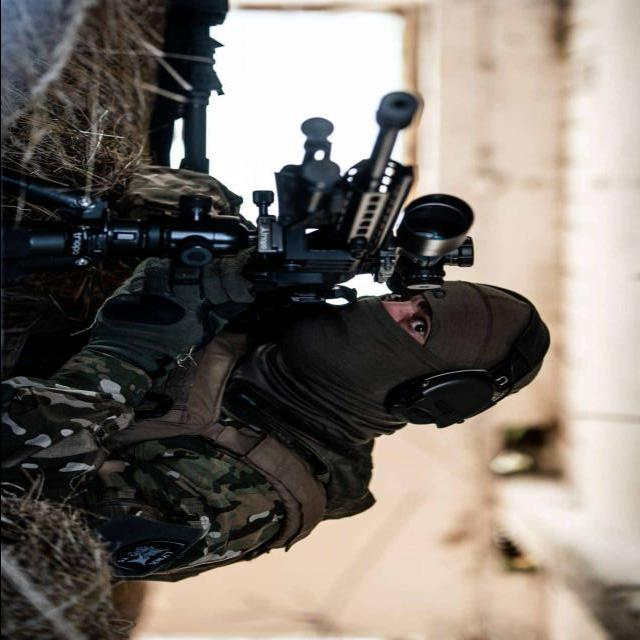sniper rifle: (4, 82, 493, 313)
